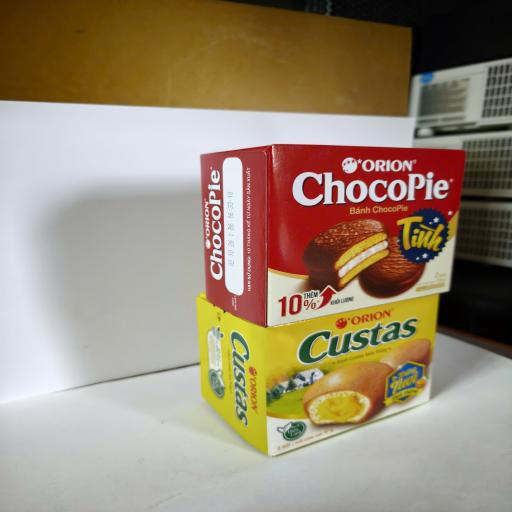chocopie: (200, 144, 466, 327)
custas: (196, 292, 441, 456)
